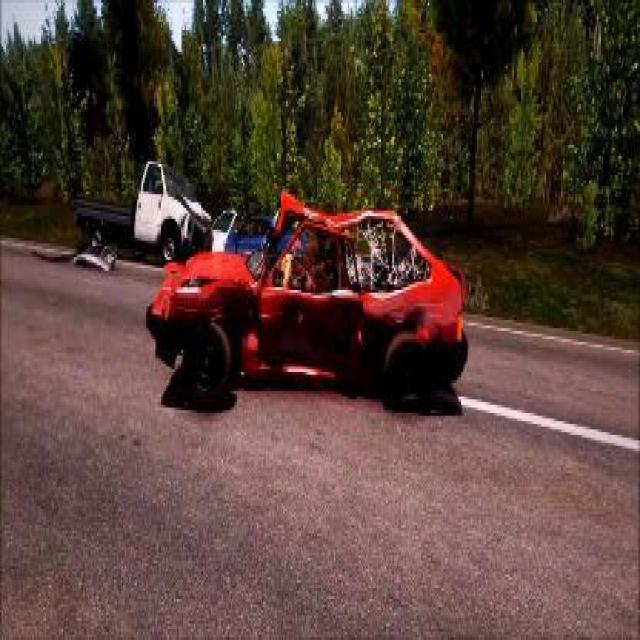accident: (70, 164, 464, 421)
